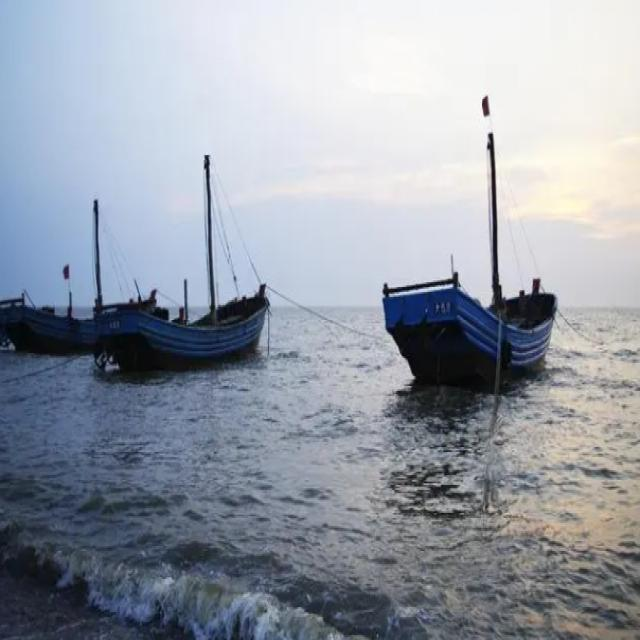fishing boat: (381, 127, 558, 376), (98, 160, 272, 364), (0, 198, 166, 350)
